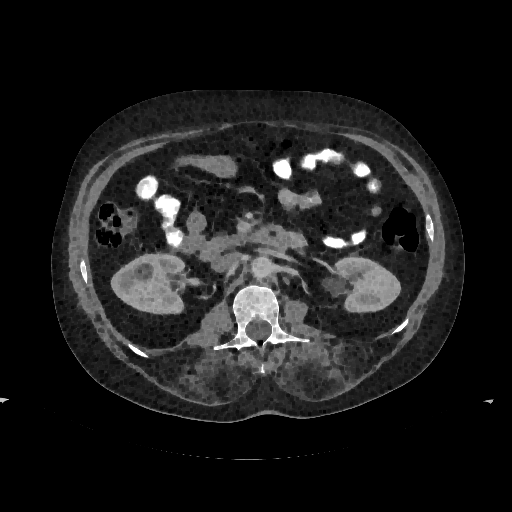Lesion: (131, 262, 160, 283)
